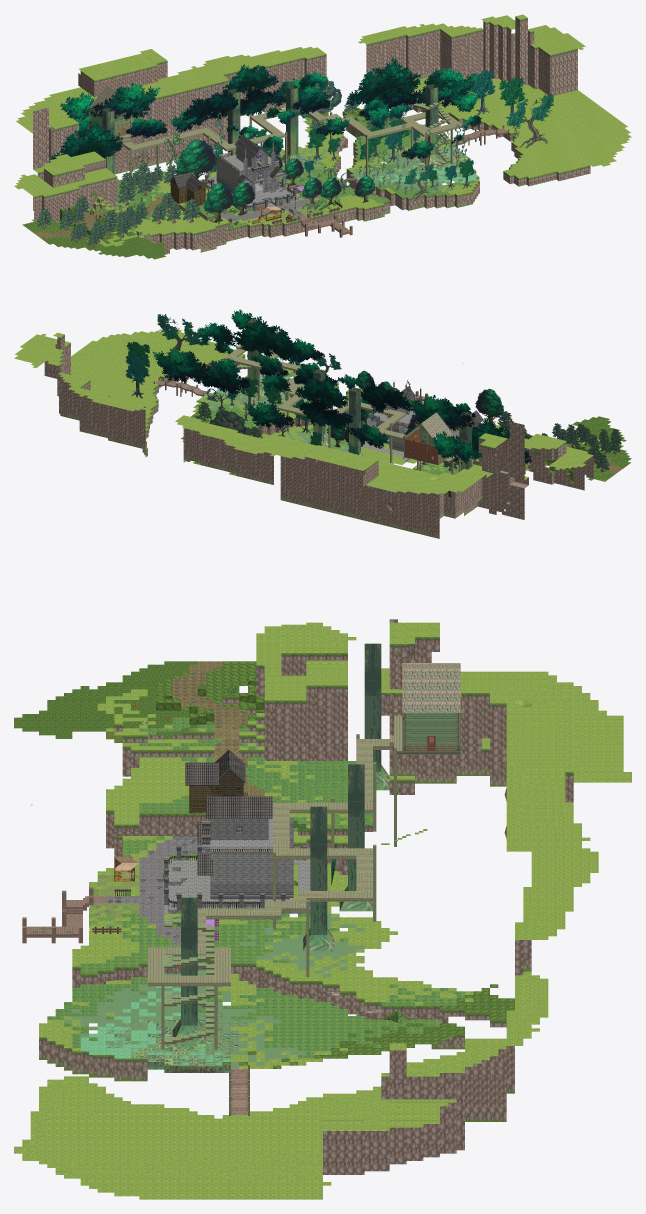
The model's file is Town21.obj.
3 renders of one model, top to bottom at view 1: azimuth 30°, elevation 25°; view 2: azimuth 150°, elevation 25°; view 3: azimuth 270°, elevation 25°, orthographic. The views are drawn at different scales.
Parts seen in each view (by area): view 1: Default; view 2: Default; view 3: Default.
Part boxes in pixels (bbox=[...]): Default: bbox=[14, 14, 631, 259]; Default: bbox=[14, 309, 631, 538]; Default: bbox=[14, 619, 631, 1199].
Bounding box in the file's own units: 292 × 60.5 × 148.
Materials: 16 (16 with a texture image).
